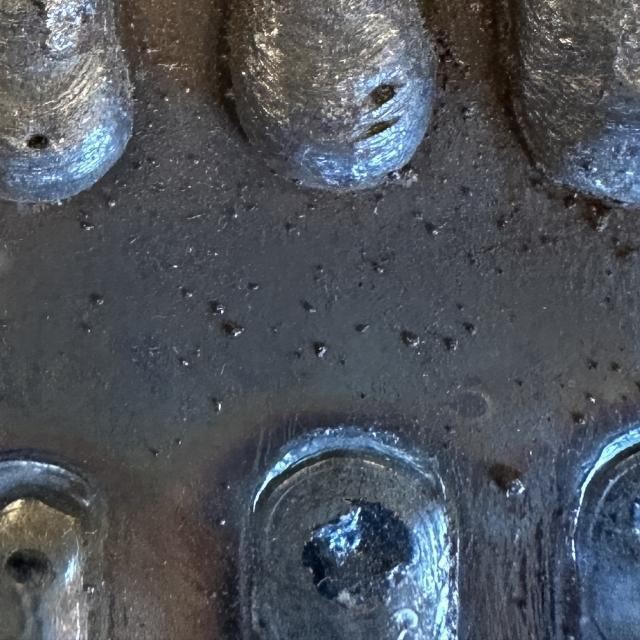Excess Reinforcement: (258, 426, 435, 494), (598, 429, 640, 464), (385, 165, 418, 188)
Porosity: (357, 116, 400, 141), (363, 84, 396, 110), (27, 134, 50, 150)
Spatters: (488, 464, 525, 497), (400, 330, 420, 347), (460, 102, 477, 119), (210, 301, 225, 315), (443, 338, 458, 351), (570, 411, 585, 424), (302, 301, 317, 314), (463, 322, 477, 335), (426, 222, 440, 235), (315, 345, 327, 357), (373, 262, 385, 274), (90, 294, 103, 305), (355, 324, 368, 334), (232, 326, 245, 336), (180, 288, 193, 298), (227, 209, 240, 219), (558, 38, 573, 46), (80, 221, 93, 230), (247, 282, 260, 291), (178, 358, 190, 367), (82, 324, 92, 333), (588, 359, 598, 368), (587, 394, 595, 404), (215, 402, 222, 412), (85, 586, 95, 593), (132, 161, 140, 169), (192, 156, 200, 164), (108, 200, 117, 207), (340, 356, 347, 364), (151, 449, 158, 456), (294, 180, 300, 188), (457, 302, 463, 310), (220, 520, 227, 526), (360, 392, 365, 398), (185, 88, 190, 93), (163, 561, 168, 566), (163, 96, 168, 101), (442, 179, 448, 183), (225, 485, 230, 489), (148, 124, 153, 128), (172, 265, 178, 268)
